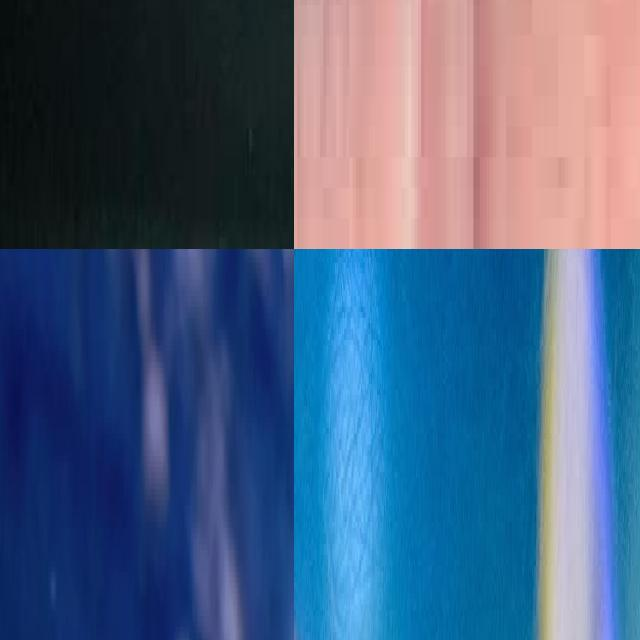fish: (294, 0, 640, 249), (0, 0, 294, 249)
